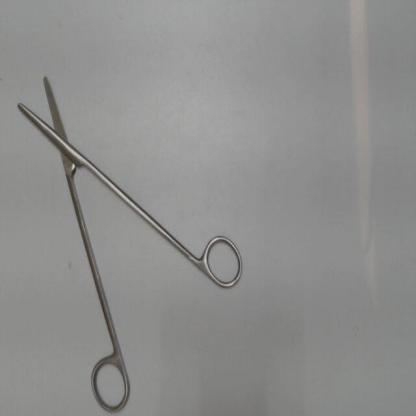9 Metzenbaum Scissors: (14, 66, 251, 415)
